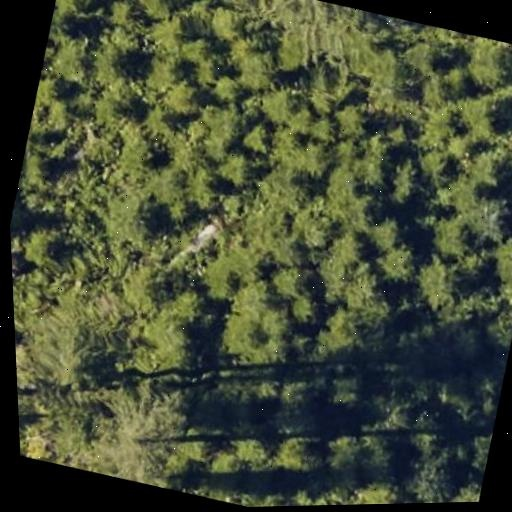tree-top: (79, 367, 214, 496), (20, 289, 130, 398), (210, 272, 312, 381), (114, 290, 215, 389), (381, 237, 463, 314), (390, 430, 472, 504), (314, 229, 385, 314), (405, 247, 477, 318), (82, 71, 153, 139), (218, 31, 288, 97), (450, 81, 512, 150), (39, 28, 105, 90), (456, 187, 512, 255), (108, 120, 168, 183), (215, 120, 272, 186), (367, 229, 428, 289), (455, 33, 512, 97), (190, 96, 249, 156), (312, 302, 372, 359), (200, 252, 260, 309), (454, 136, 512, 194), (139, 5, 197, 63), (111, 187, 170, 244), (441, 315, 497, 372), (271, 425, 328, 480), (361, 385, 421, 436), (378, 149, 430, 207), (265, 254, 318, 306), (204, 476, 290, 508), (157, 70, 209, 122), (481, 229, 512, 316), (317, 364, 369, 415), (459, 417, 498, 484), (179, 163, 229, 214), (13, 221, 63, 272), (16, 145, 64, 197), (344, 469, 412, 505), (161, 133, 209, 181), (210, 147, 256, 192), (233, 115, 278, 159), (186, 50, 225, 90), (441, 468, 485, 503), (53, 0, 115, 21), (161, 190, 198, 225), (134, 0, 179, 27), (11, 241, 27, 285), (144, 0, 235, 7)
